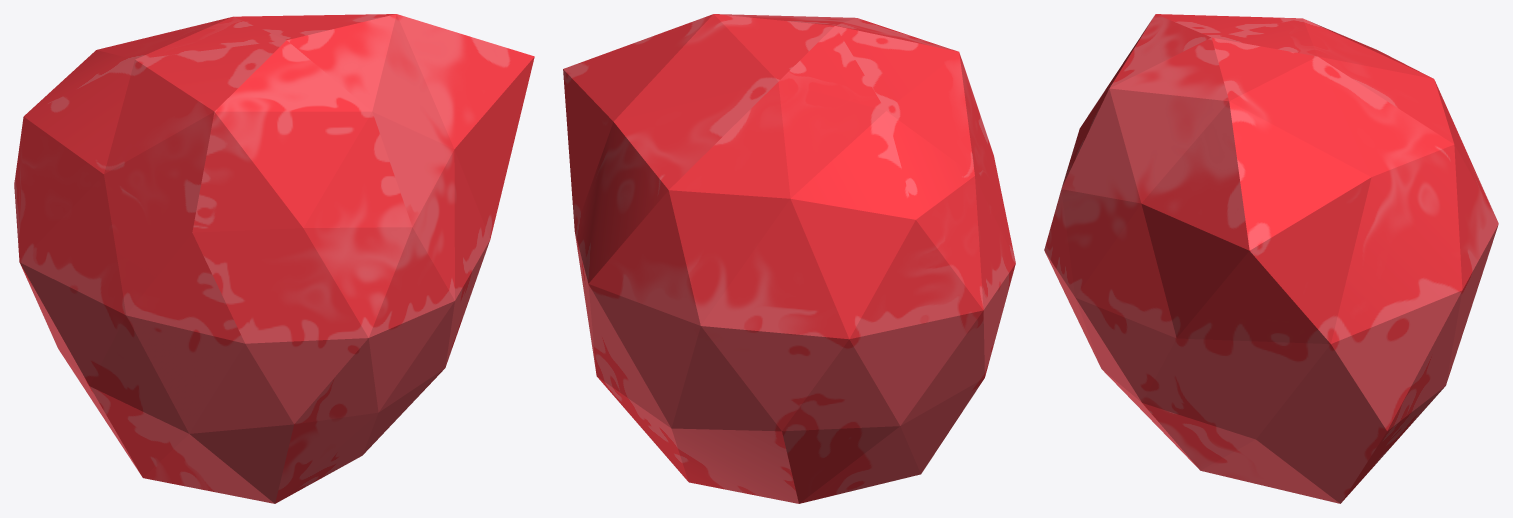
File: Bluebell.fbx
3 renders of one model, left to right at view 1: azimuth 30°, elevation 25°; view 2: azimuth 150°, elevation 25°; view 3: azimuth 270°, elevation 25°, orthographic. The views are drawn at different scales.
Visible parts, largest first — view 1: Bluebell; view 2: Bluebell; view 3: Bluebell.
Part boxes in pixels (x1,y1,x2,y2): Bluebell: (14, 14, 534, 503); Bluebell: (563, 14, 1015, 503); Bluebell: (1044, 14, 1498, 503).
Size of the model in its own units: 72.88 by 65.96 by 63.68.
